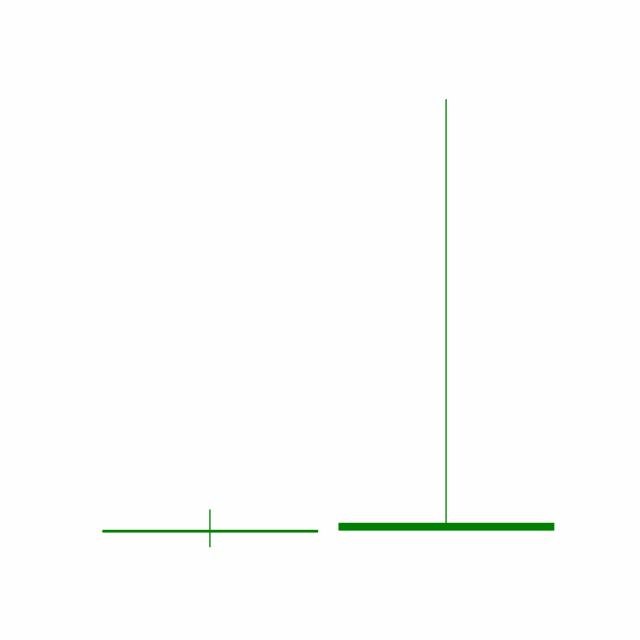Gravestone Doji: (327, 94, 565, 534)
